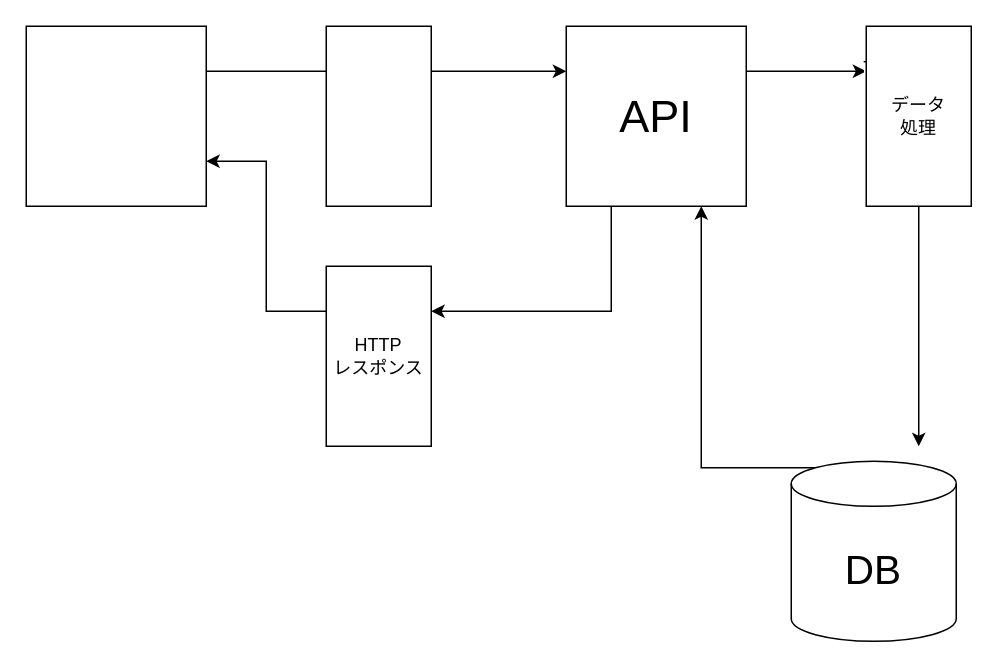
The diagram is 998 pixels wide and 668 high, and some of its shapes have lost their labels. Here are the shapes that lost their labels. From the top down, the centre of each, then its label:
(115,115): クライアント画面
(378,115): HTTP リクエスト
